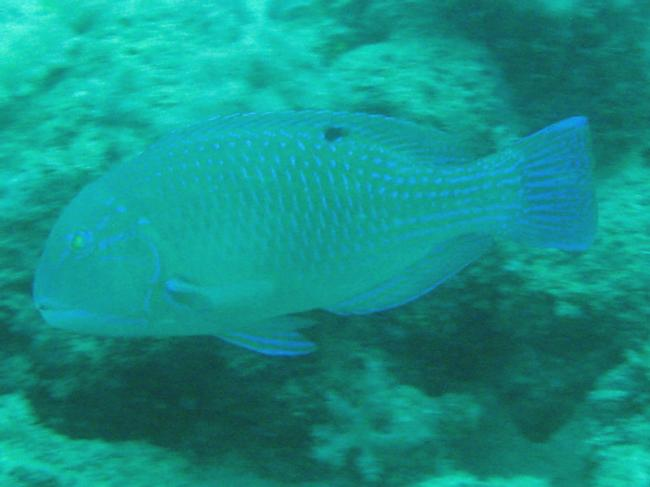fish: (32, 111, 597, 357)
